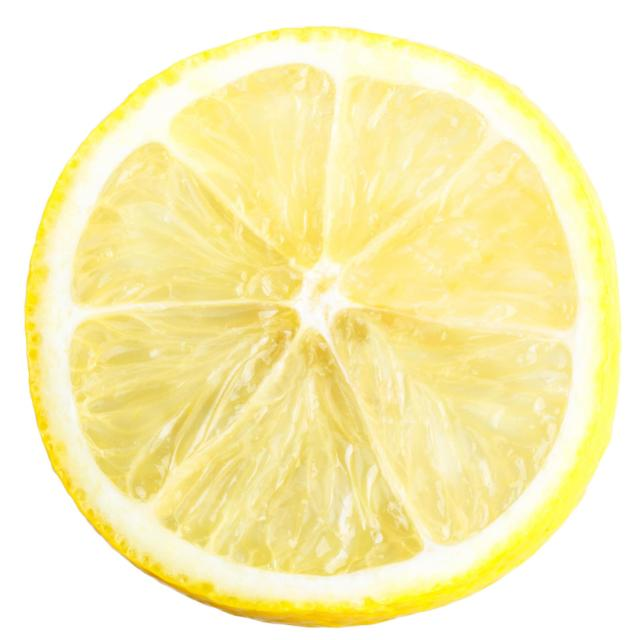lemon: (13, 11, 632, 635)
